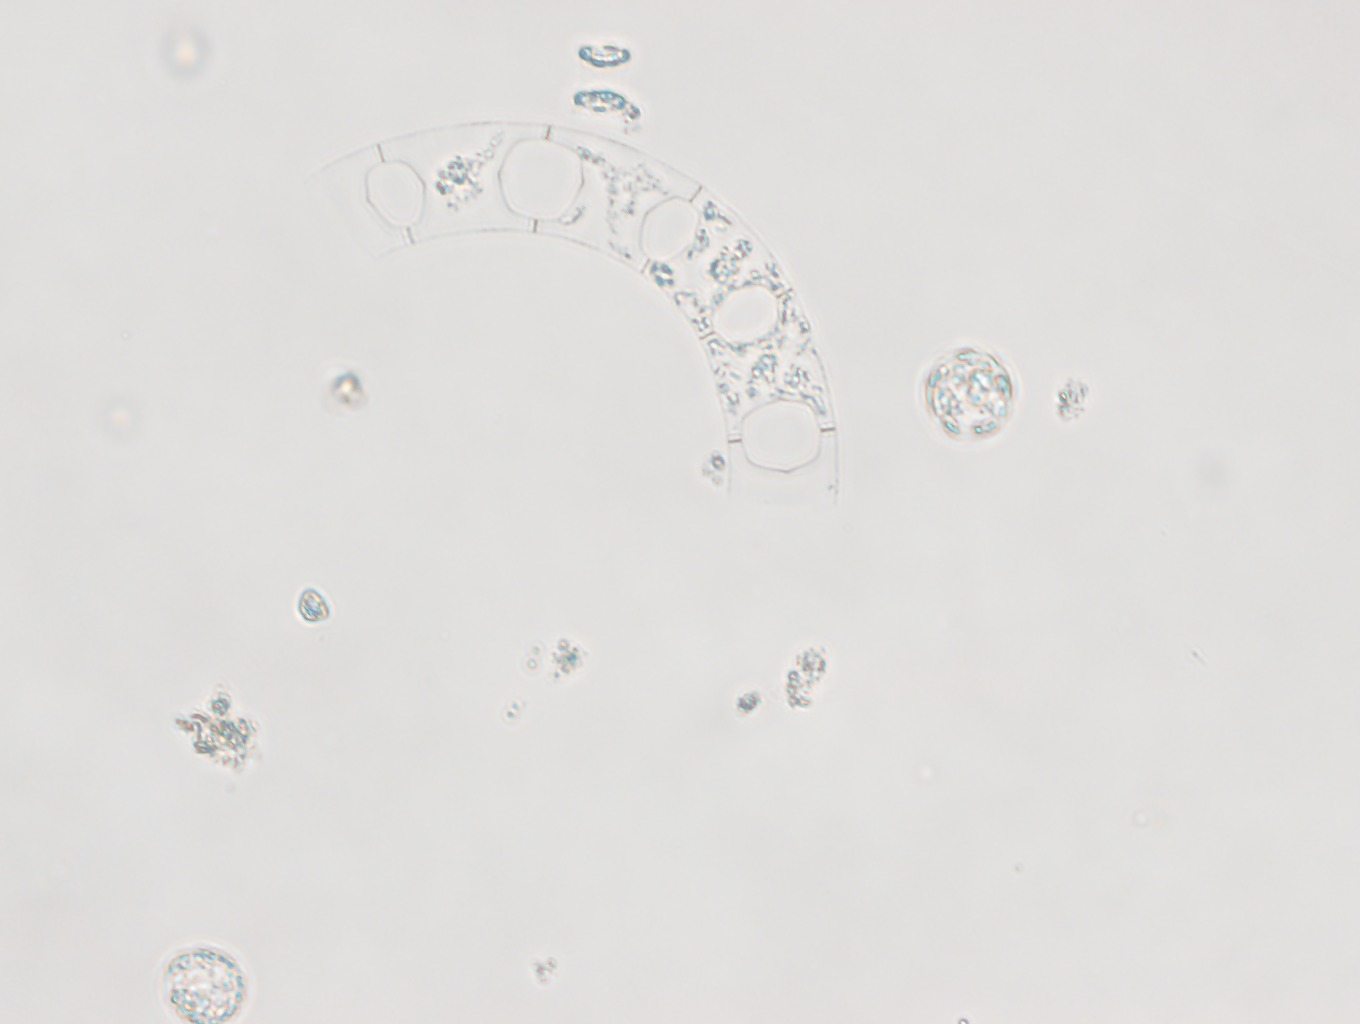eucampia: (317, 119, 838, 497)
